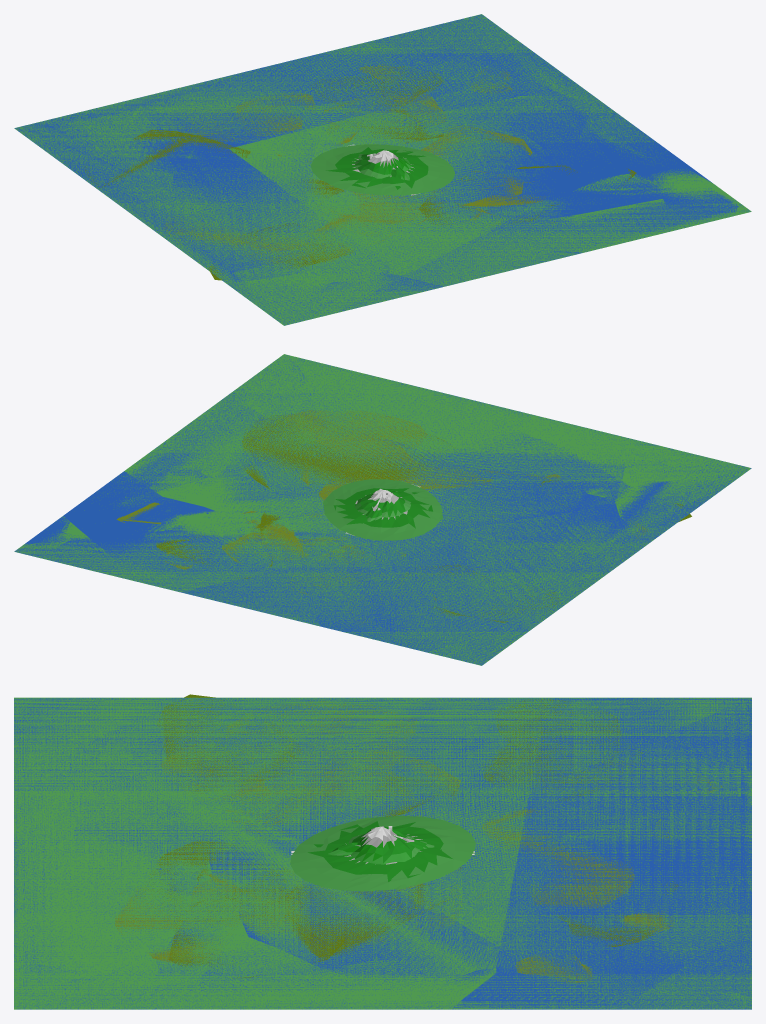
Rendered from libya.glb.
3 views of the same model, one above another, from view 1: azimuth 30°, elevation 25°; view 2: azimuth 150°, elevation 25°; view 3: azimuth 270°, elevation 25° (orthographic). The views are drawn at different scales.
Visible parts, largest first — view 1: libya_000_lod0, libya_132_lod0, libya_143_lod0, libya_134_lod0, libya_140_lod0, libya_148_lod0, libya_151_lod0, libya_137_lod0, libya_128_lod0, libya_107_lod0_forest, libya_145_lod0, libya_106_lod0_forest (+16 smaller); view 2: libya_000_lod0, libya_133_lod0, libya_139_lod0, libya_132_lod0, libya_137_lod0, libya_141_lod0, libya_145_lod0, libya_138_lod0, libya_128_lod0, libya_135_lod0, libya_147_lod0, libya_140_lod0 (+13 smaller); view 3: libya_000_lod0, libya_135_lod0, libya_128_lod0, libya_132_lod0, libya_133_lod0, libya_141_lod0, libya_137_lod0, libya_144_lod0, libya_139_lod0, libya_106_lod0_forest, libya_107_lod0_forest, libya_138_lod0 (+15 smaller).
Part boxes in pixels (x1,y1,x2,y2): libya_000_lod0: (16, 14, 751, 325); libya_132_lod0: (15, 15, 749, 324); libya_143_lod0: (19, 17, 739, 321); libya_134_lod0: (16, 16, 747, 322); libya_140_lod0: (25, 15, 745, 319); libya_148_lod0: (20, 18, 732, 319); libya_151_lod0: (54, 17, 744, 311); libya_137_lod0: (20, 15, 742, 322); libya_128_lod0: (15, 15, 748, 325); libya_107_lod0_forest: (163, 105, 636, 255); libya_145_lod0: (24, 20, 747, 319); libya_106_lod0_forest: (85, 66, 523, 280); libya_000_lod0: (15, 354, 750, 665); libya_133_lod0: (16, 356, 749, 664); libya_139_lod0: (18, 359, 743, 661); libya_132_lod0: (17, 354, 748, 664); libya_137_lod0: (19, 356, 743, 664); libya_141_lod0: (30, 361, 748, 660); libya_145_lod0: (55, 357, 744, 656); libya_138_lod0: (22, 355, 740, 661); libya_128_lod0: (15, 354, 751, 664); libya_135_lod0: (23, 355, 741, 665); libya_147_lod0: (19, 365, 739, 662); libya_140_lod0: (14, 356, 746, 661); libya_000_lod0: (14, 698, 751, 1009); libya_135_lod0: (14, 697, 751, 1009); libya_128_lod0: (14, 697, 751, 1009); libya_132_lod0: (14, 697, 751, 1009); libya_133_lod0: (14, 697, 751, 1009); libya_141_lod0: (14, 698, 751, 1009); libya_137_lod0: (14, 700, 751, 1009); libya_144_lod0: (14, 698, 751, 1009); libya_139_lod0: (15, 698, 751, 1009); libya_106_lod0_forest: (157, 694, 678, 946); libya_107_lod0_forest: (140, 701, 722, 978); libya_138_lod0: (14, 697, 751, 1009).
Size of what is drawn, in the model's own units: 4139 by 166 by 4096.
